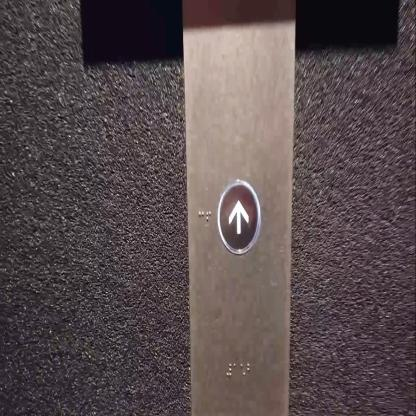up: (216, 176, 262, 256)
